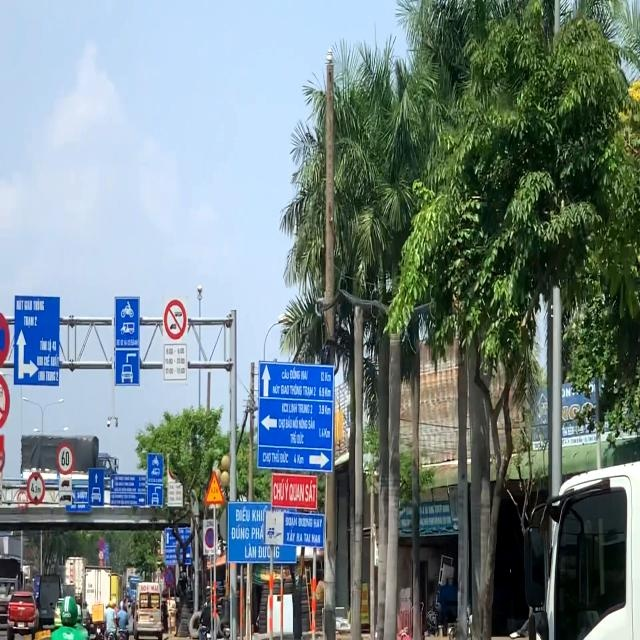bien_nguy_hiem: (204, 471, 225, 505), (55, 443, 75, 474), (164, 567, 175, 588)
